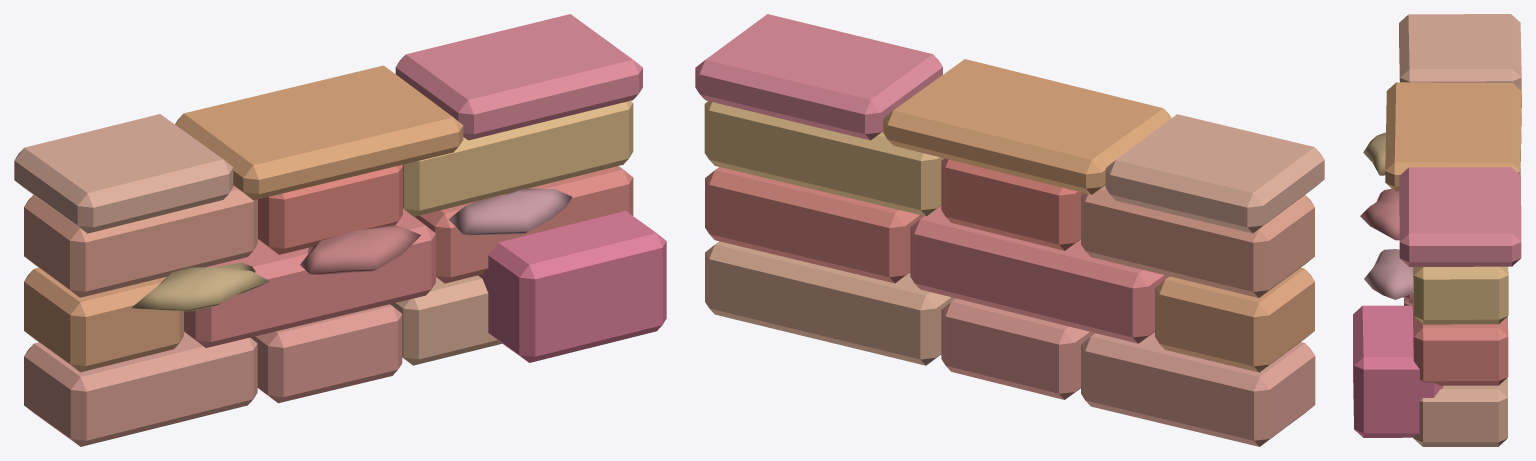
File: WC_RIVER_Bank_Vegetation_A.glb
3 renders of one model, left to right at view 1: azimuth 30°, elevation 25°; view 2: azimuth 150°, elevation 25°; view 3: azimuth 270°, elevation 25°, orthographic. The views are drawn at different scales.
Visible parts, largest first — view 1: WC_RIVER_Bank_Vegetation_A_RenderMesh; view 2: WC_RIVER_Bank_Vegetation_A_RenderMesh; view 3: WC_RIVER_Bank_Vegetation_A_RenderMesh.
Part boxes in pixels (left/top/right/bottom): WC_RIVER_Bank_Vegetation_A_RenderMesh: left=14, top=14, right=666, bottom=446; WC_RIVER_Bank_Vegetation_A_RenderMesh: left=695, top=14, right=1324, bottom=446; WC_RIVER_Bank_Vegetation_A_RenderMesh: left=1353, top=14, right=1521, bottom=446.
Size of the model in its own units: 1.99 by 0.8735 by 0.6247.
